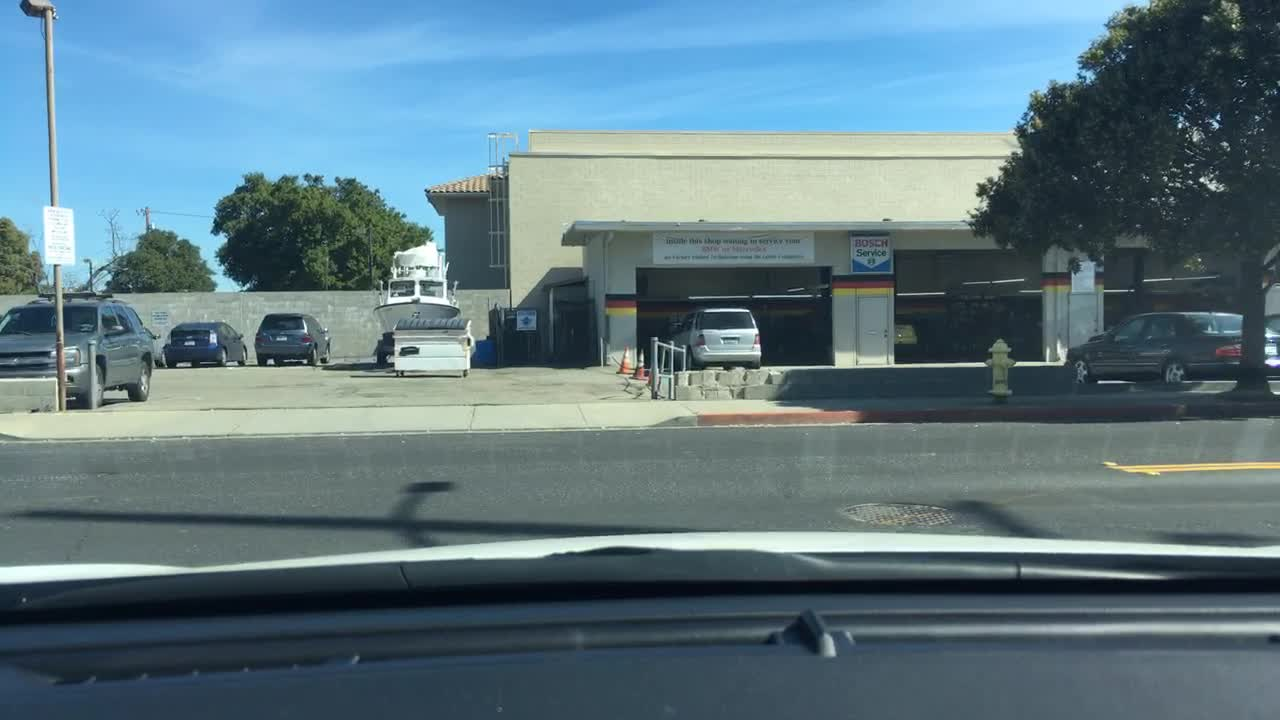car: (1, 288, 157, 408), (1063, 310, 1278, 383), (665, 304, 757, 366), (161, 318, 246, 366), (253, 312, 331, 363), (891, 324, 918, 347)
traffic sign: (41, 205, 75, 263), (512, 306, 536, 330)
truck: (366, 242, 471, 375)
